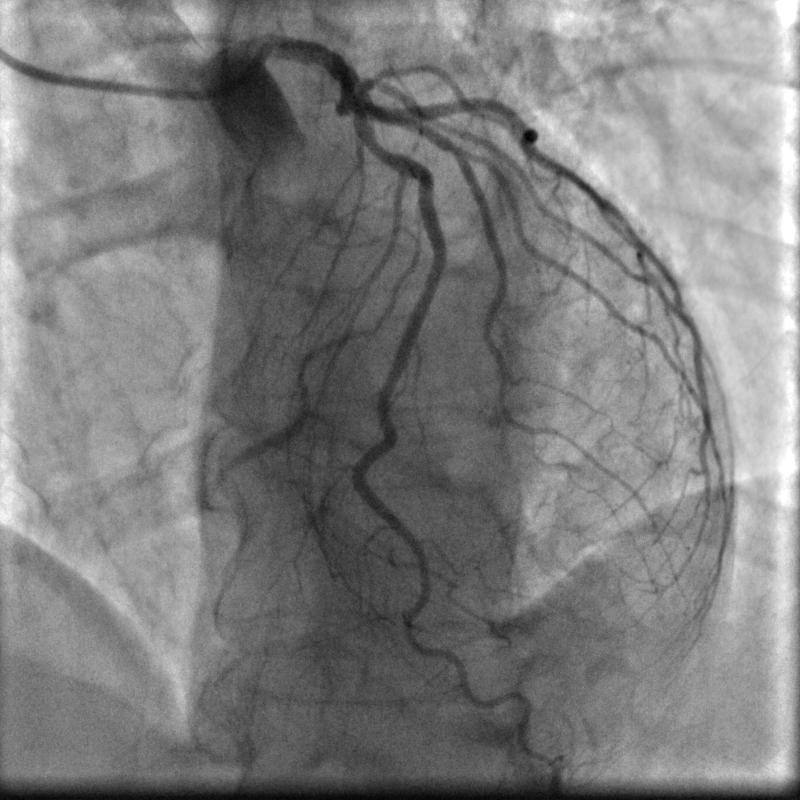Stenosis: (364, 138, 391, 157)
